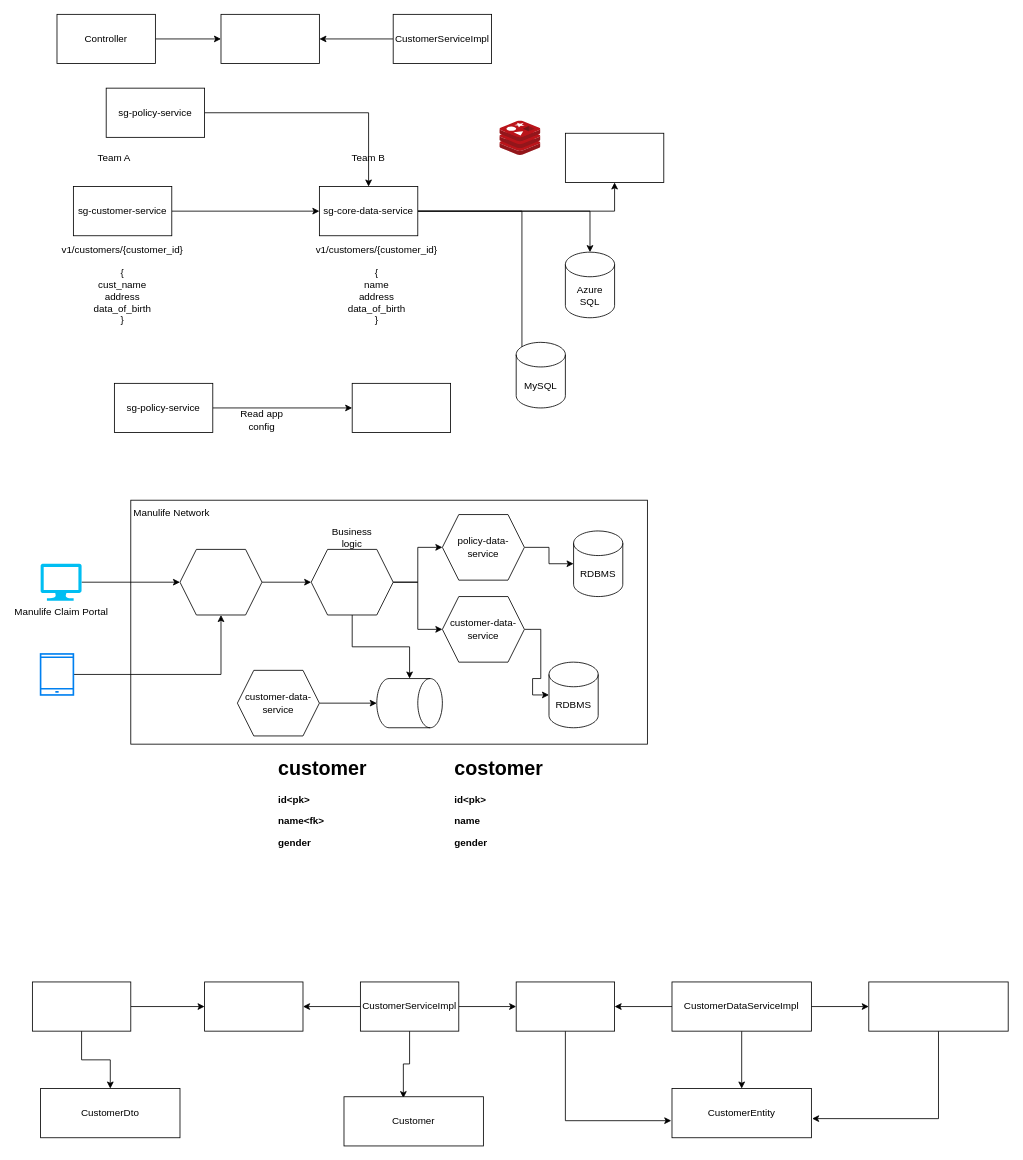
The diagram is 1023 pixels wide and 1160 high, and some of its shapes have lost their labels. Here are the shapes that lost their labels. From the top down, the centre of each, then its label:
point (269, 39): CustomerService
point (614, 157): Azure Cache
point (401, 408): GIT Repo
point (220, 582): claim-bff-service
point (351, 582): claim-process-service
point (409, 703): Kafka
point (81, 1006): CustomerControllerV1
point (253, 1006): <interface> CustomerService
point (565, 1006): <interface> CustomerDataService
point (938, 1006): CustomerRepository
